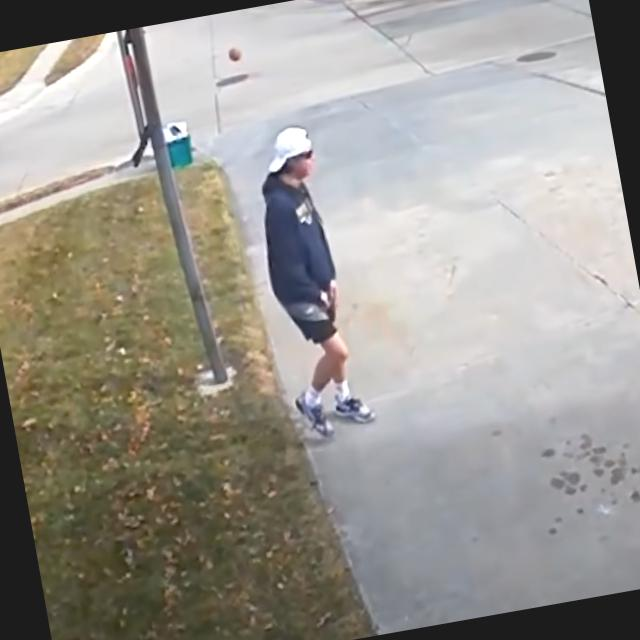person: (241, 120, 374, 438)
